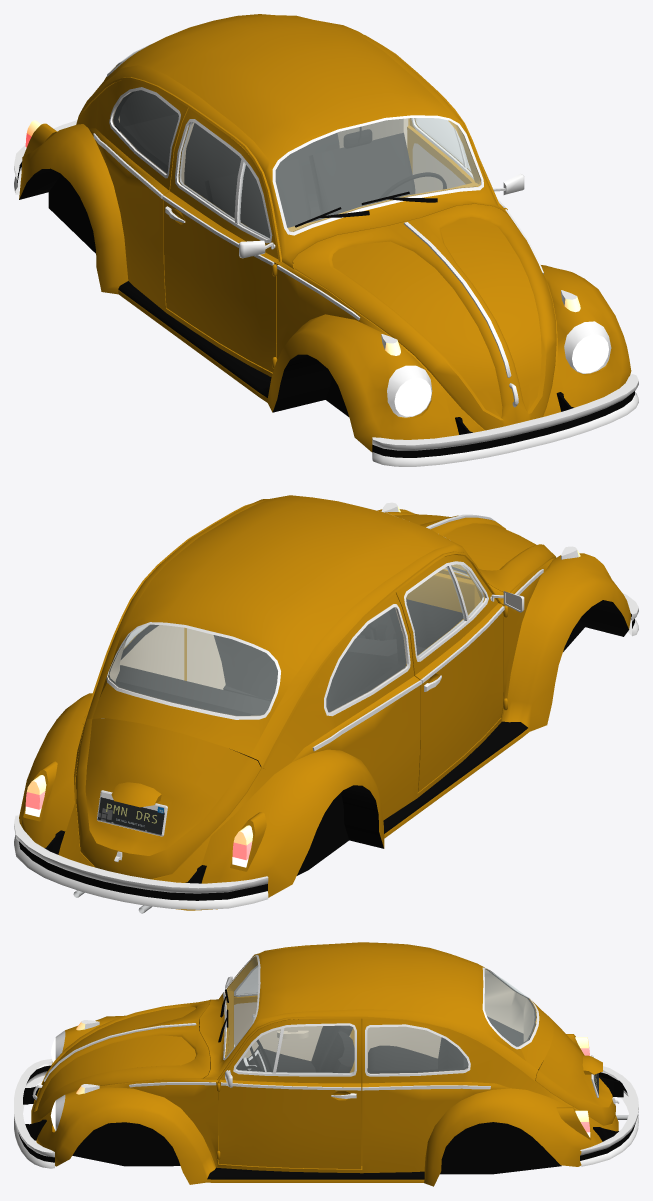
File: Beetle.glb
3 views of the same model, one above another, from view 1: azimuth 30°, elevation 25°; view 2: azimuth 150°, elevation 25°; view 3: azimuth 270°, elevation 25° (orthographic). The views are drawn at different scales.
Visible parts, largest first — view 1: chassis; view 2: chassis; view 3: chassis.
Boxes of the visible parts, <box> form: chassis: <box>14,14,638,466</box>; chassis: <box>14,495,638,913</box>; chassis: <box>14,942,638,1186</box>.
Size of the model in its own units: 1.57 by 1.26 by 4.08.
Materials: 16 (1 with a texture image).
